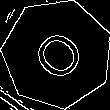O_SE: (24, 21, 90, 87)
